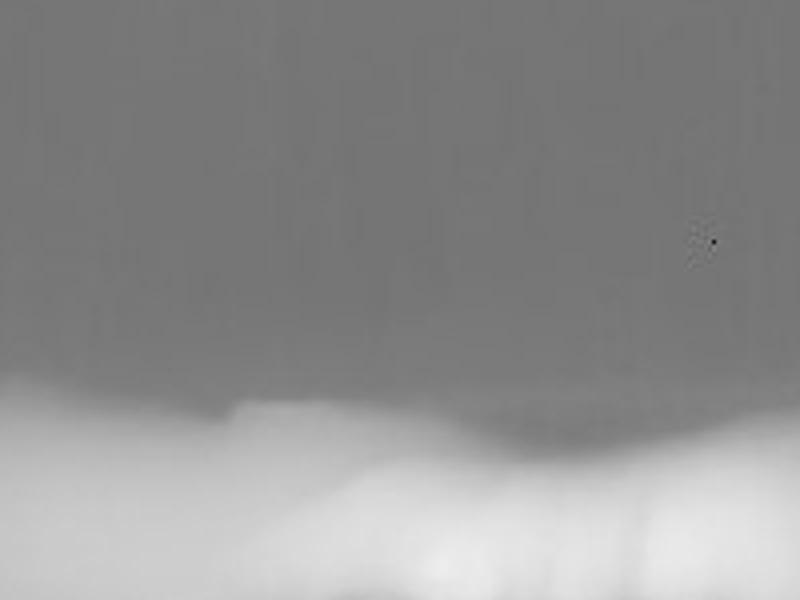defect: (708, 234, 722, 248)
